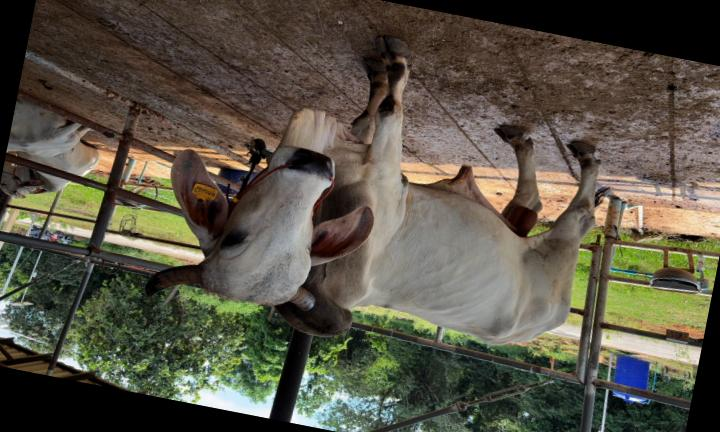Brahman: (145, 37, 606, 344)
